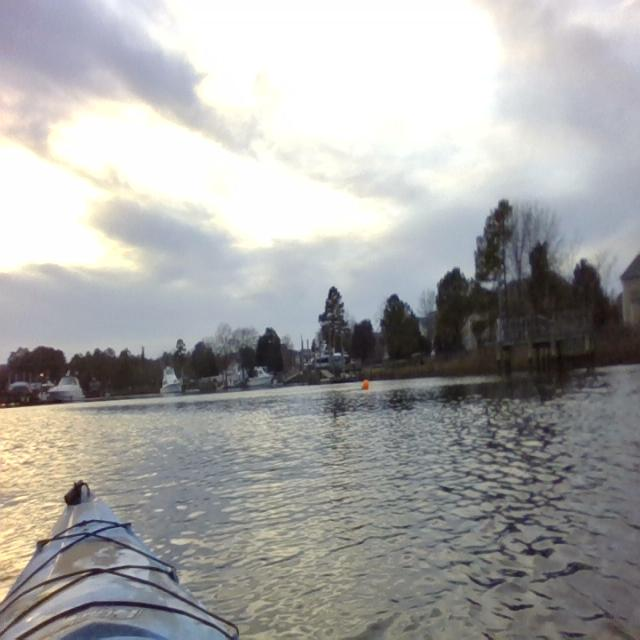Buoy: (360, 377, 370, 393)
